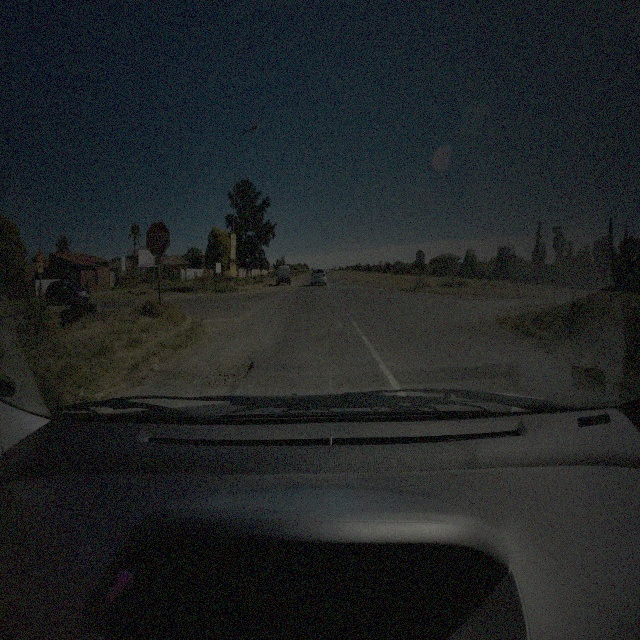pothole: (192, 352, 254, 387)
